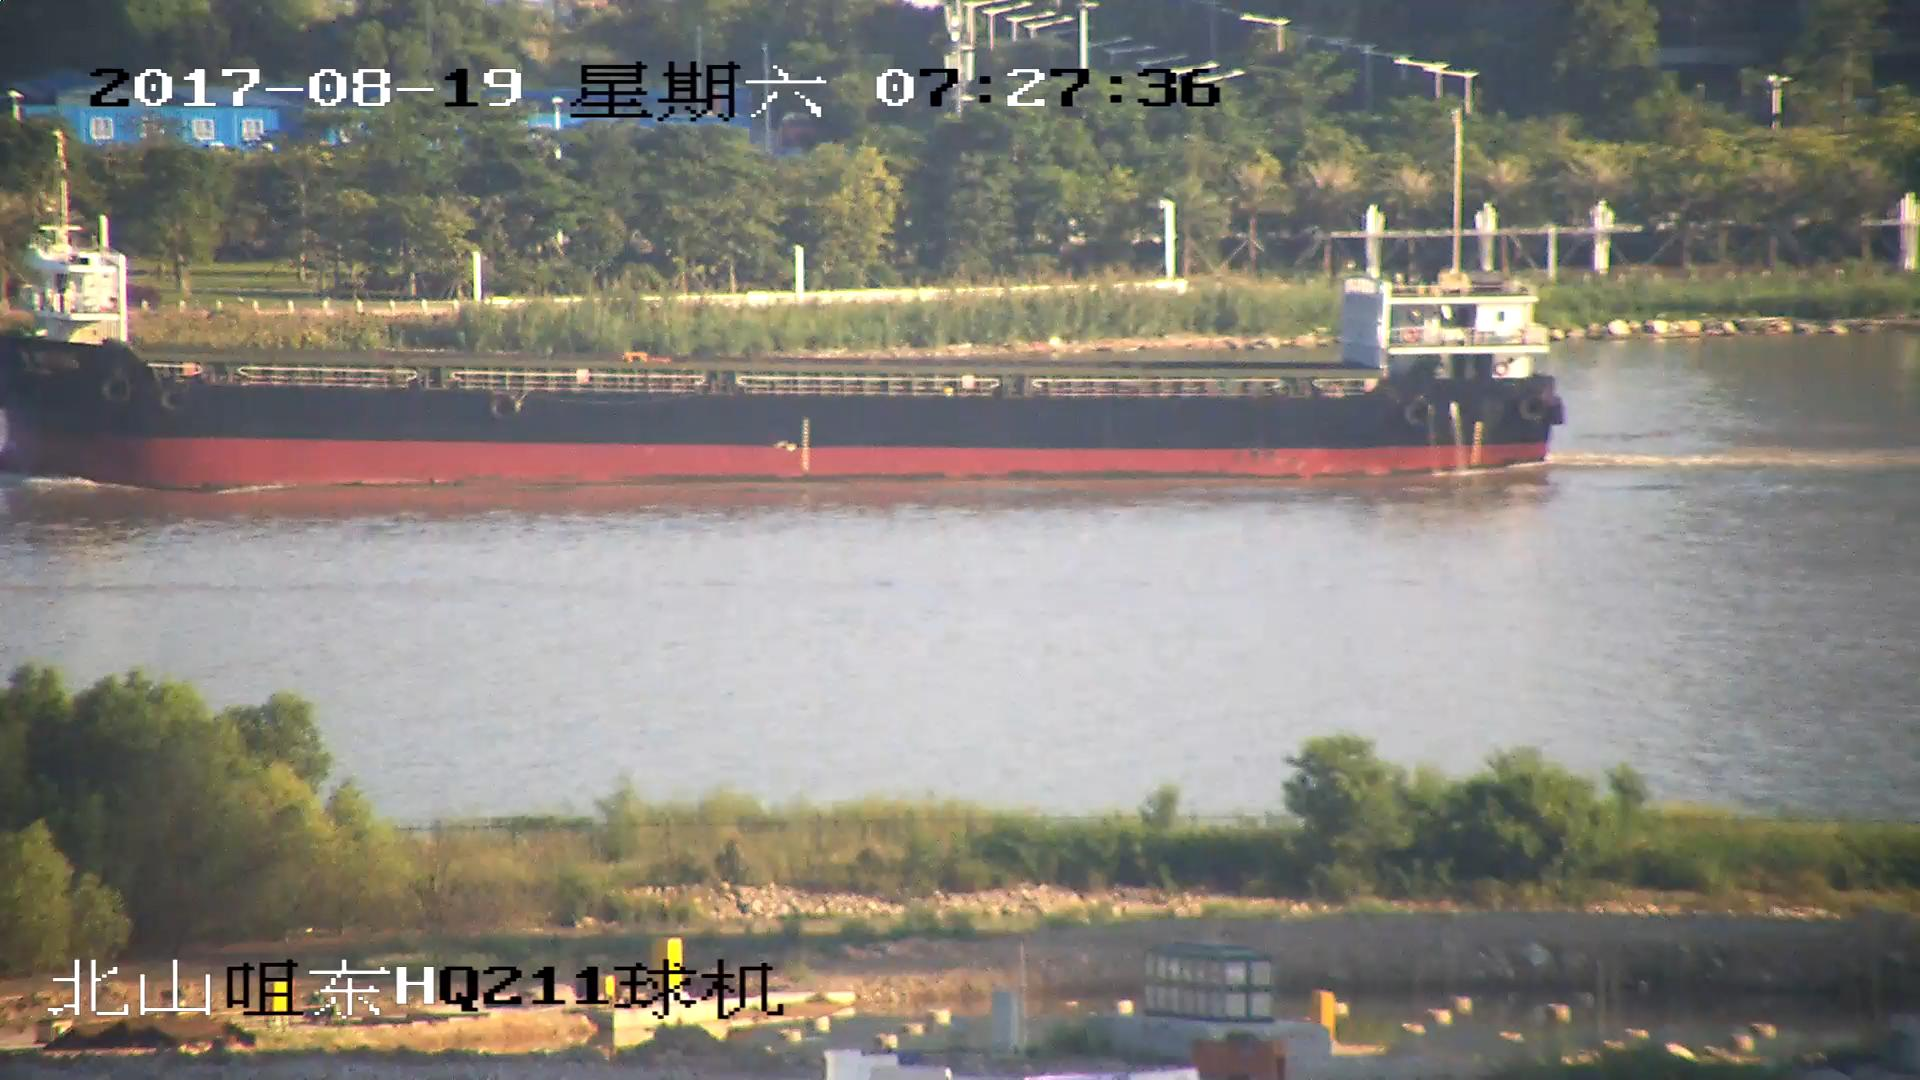general cargo ship: (1, 210, 1569, 486)
